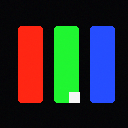1 square: (69, 92, 79, 102)
